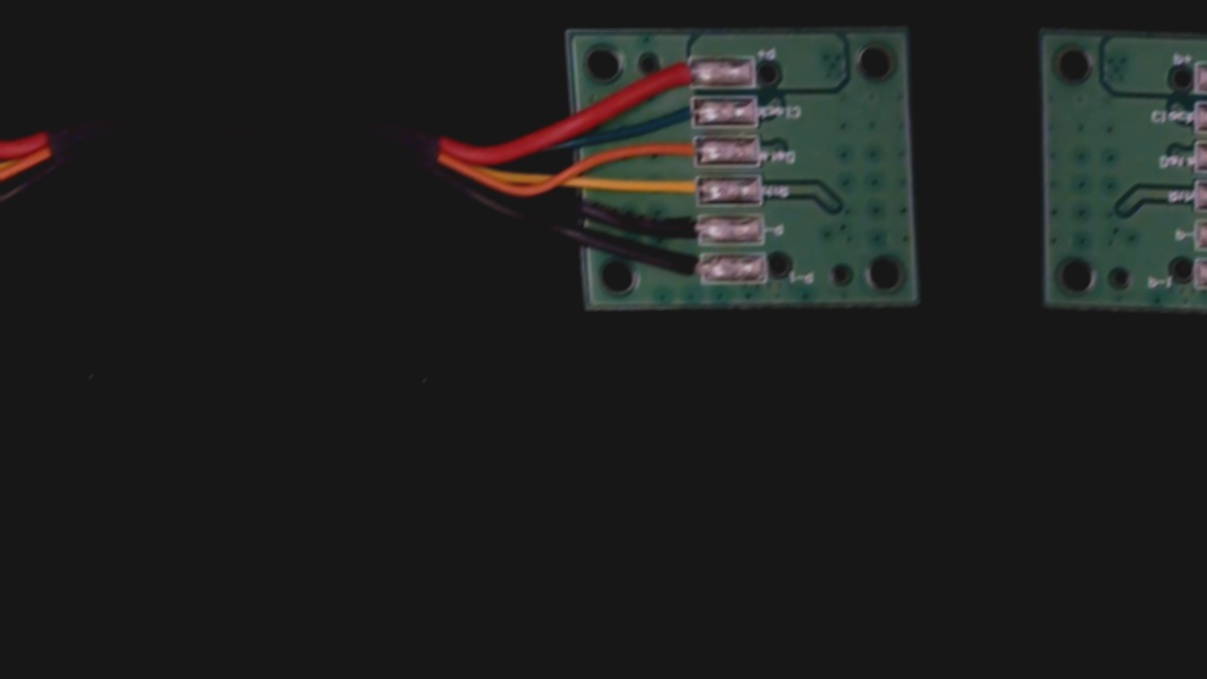Black: (639, 211, 715, 246)
Black1: (648, 253, 717, 286)
Green: (648, 97, 712, 130)
Orange: (639, 134, 714, 167)
Red: (642, 57, 712, 92)
Yellow: (637, 174, 714, 209)
